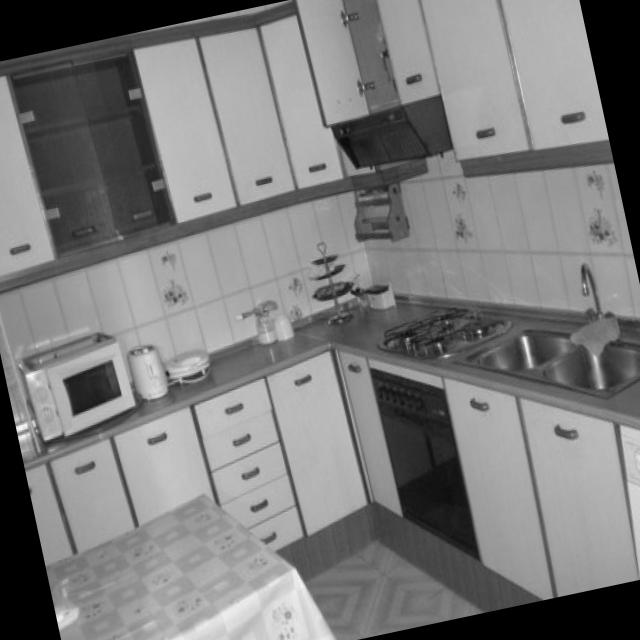microwave oven: (21, 331, 135, 439)
